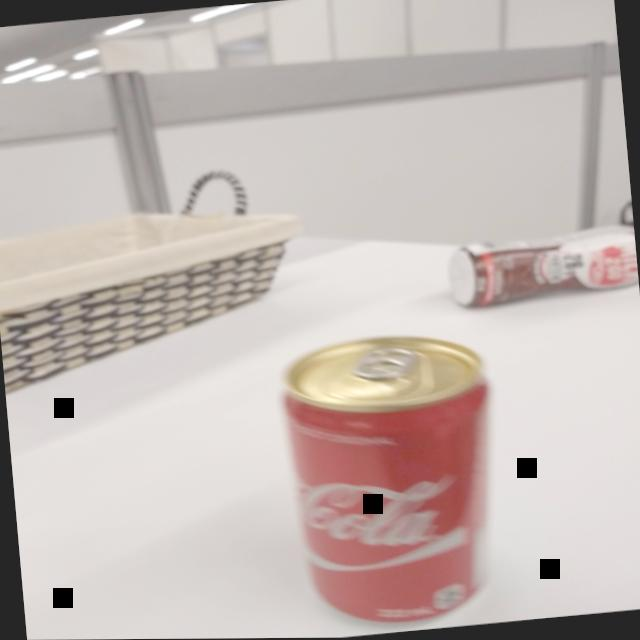chocolate_drink: (433, 214, 640, 318)
coke: (262, 318, 518, 638)
